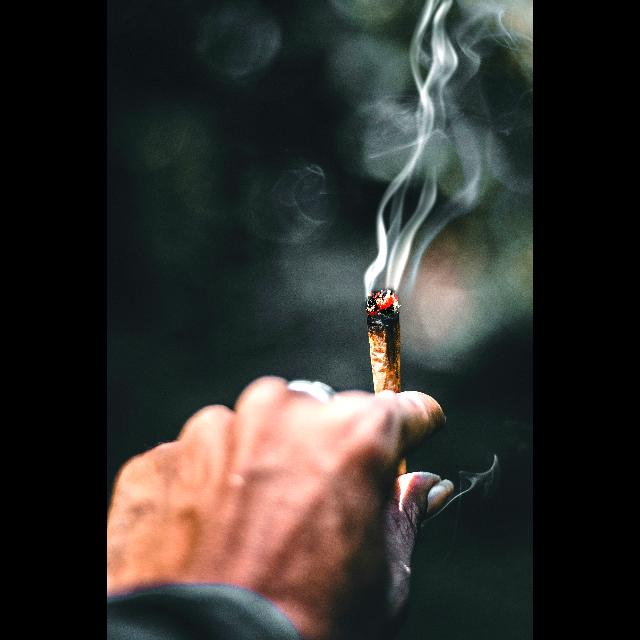fire: (366, 288, 401, 332)
smoke: (366, 0, 509, 290)
